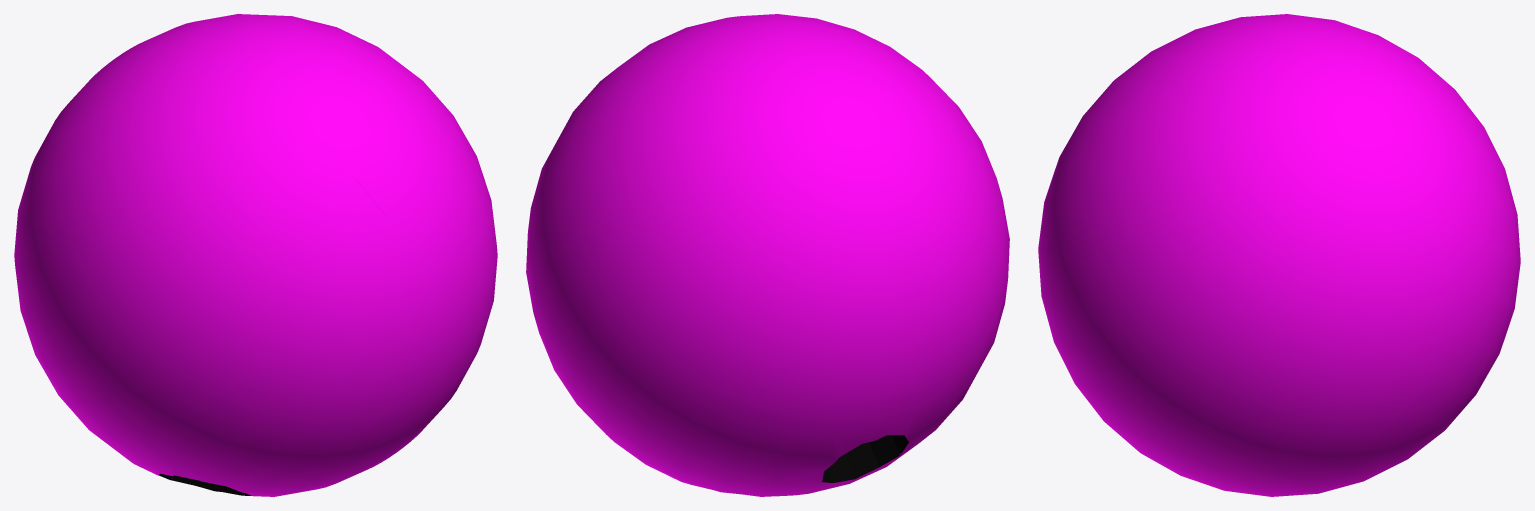
File: Skin.fbx
3 views of the same model, side by side, from view 1: azimuth 30°, elevation 25°; view 2: azimuth 150°, elevation 25°; view 3: azimuth 270°, elevation 25° (orthographic).
Parts seen in each view (by area): view 1: Bowling; view 2: Bowling; view 3: Bowling.
Boxes of the visible parts, x1,y1,x2,y2 form: Bowling: [14, 14, 497, 496]; Bowling: [526, 14, 1009, 496]; Bowling: [1038, 14, 1520, 496].
Size of the model in its own units: 200 by 200 by 200.
Materials: 1 (1 with a texture image).
